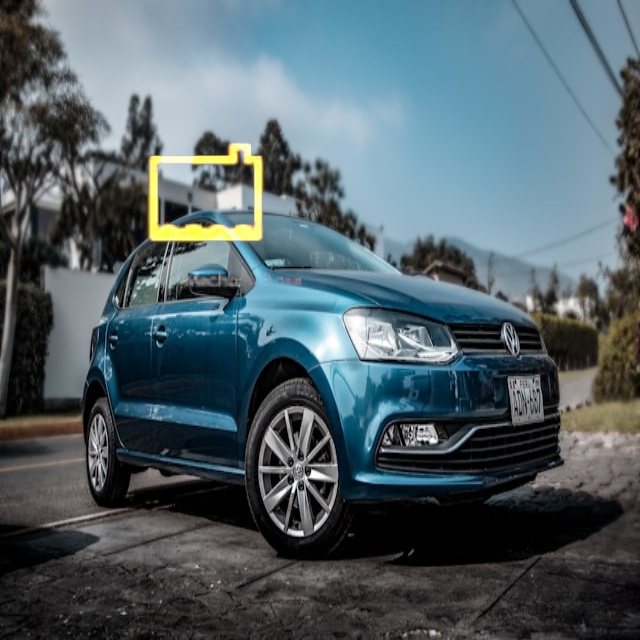symbol: (102, 89, 310, 297)
